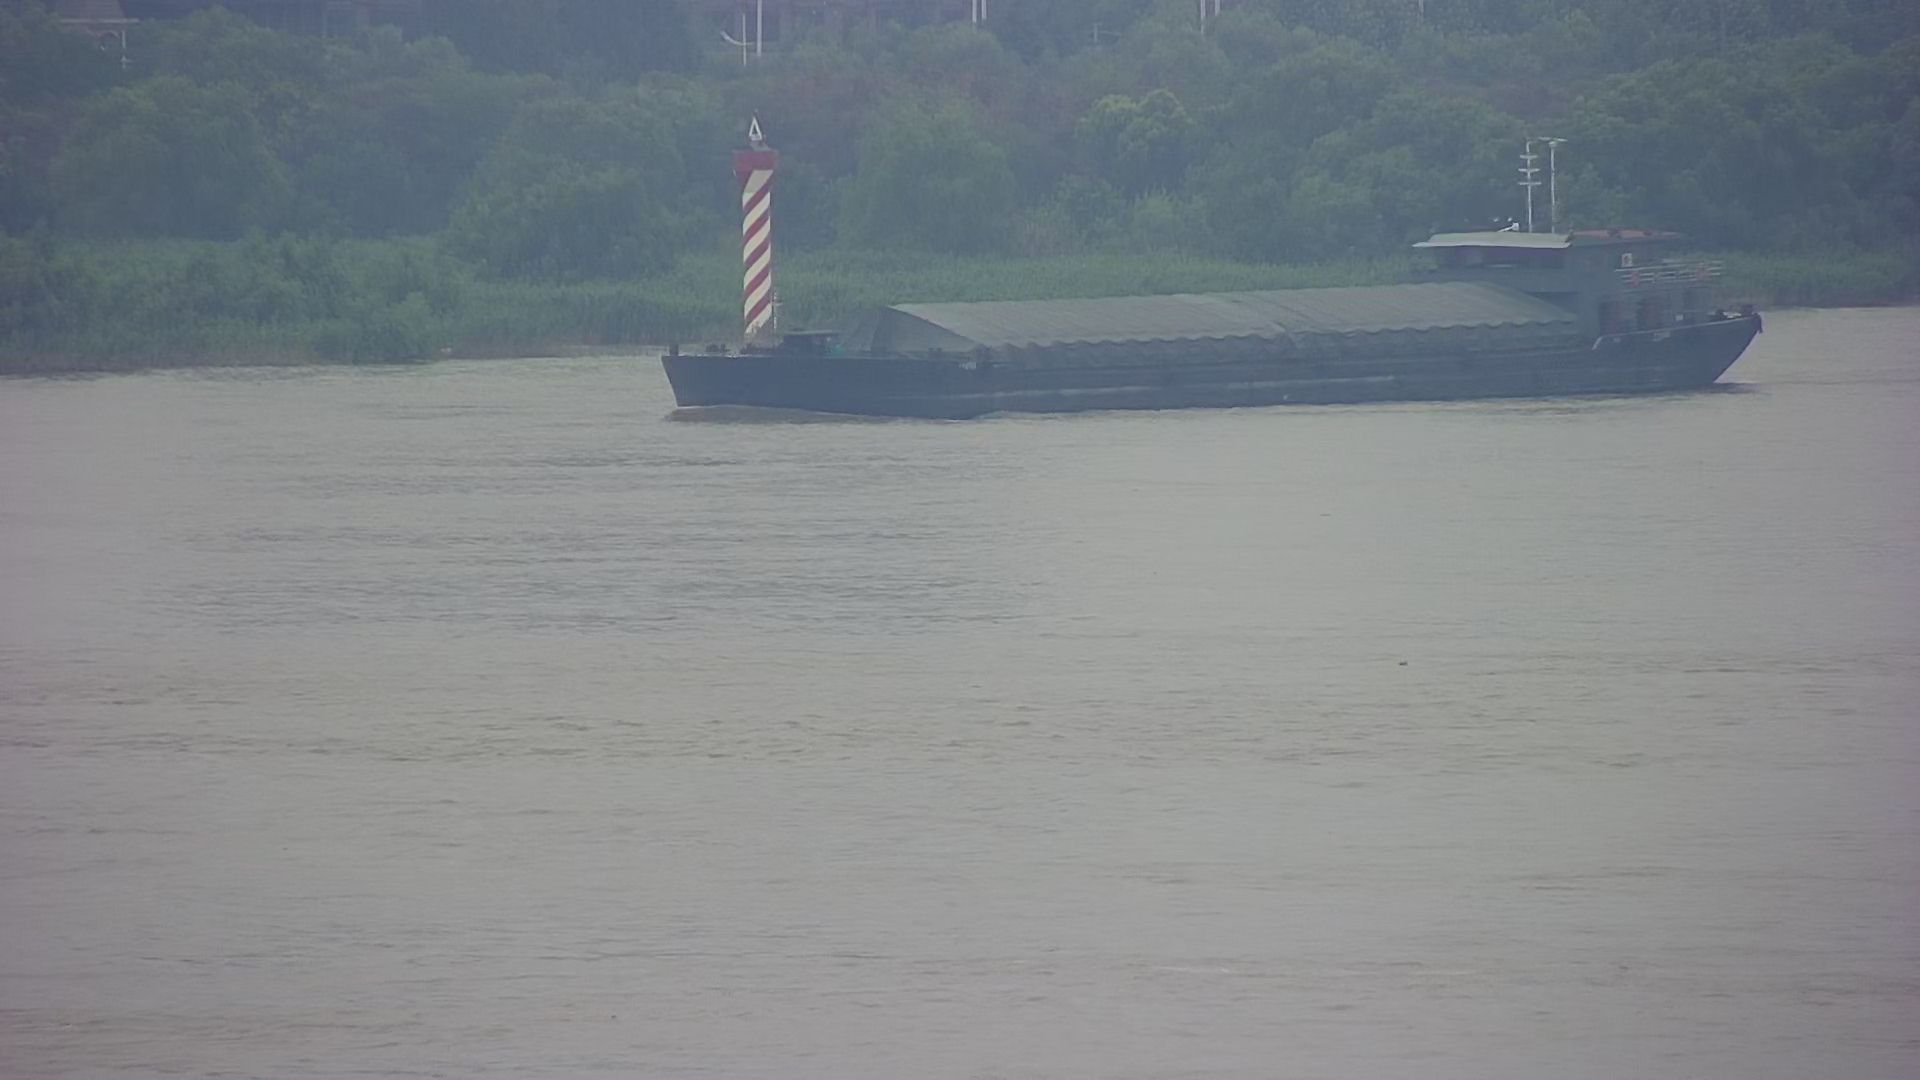mast: (731, 113, 777, 335)
ship: (661, 204, 1763, 418)
